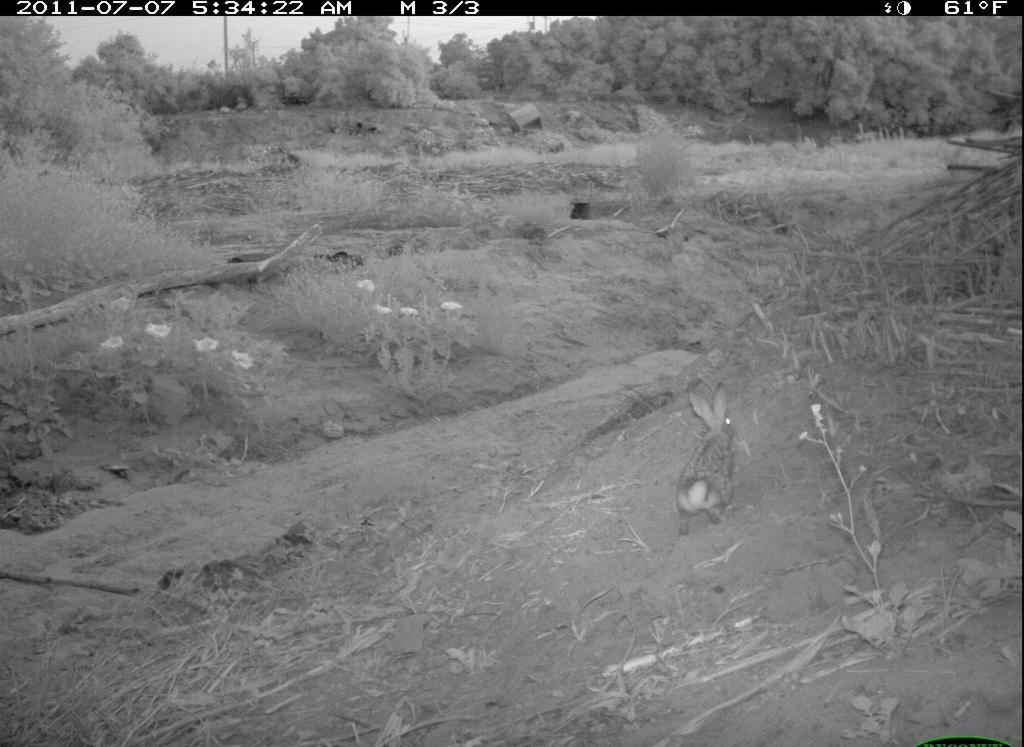rabbit: (661, 378, 742, 542)
